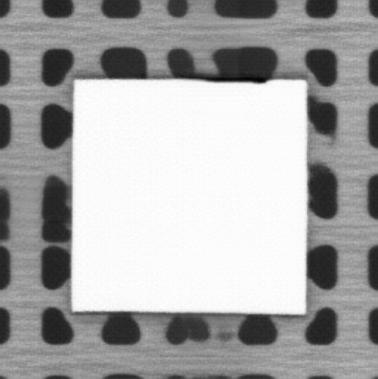DIE_BROKEN: (197, 72, 268, 85)
